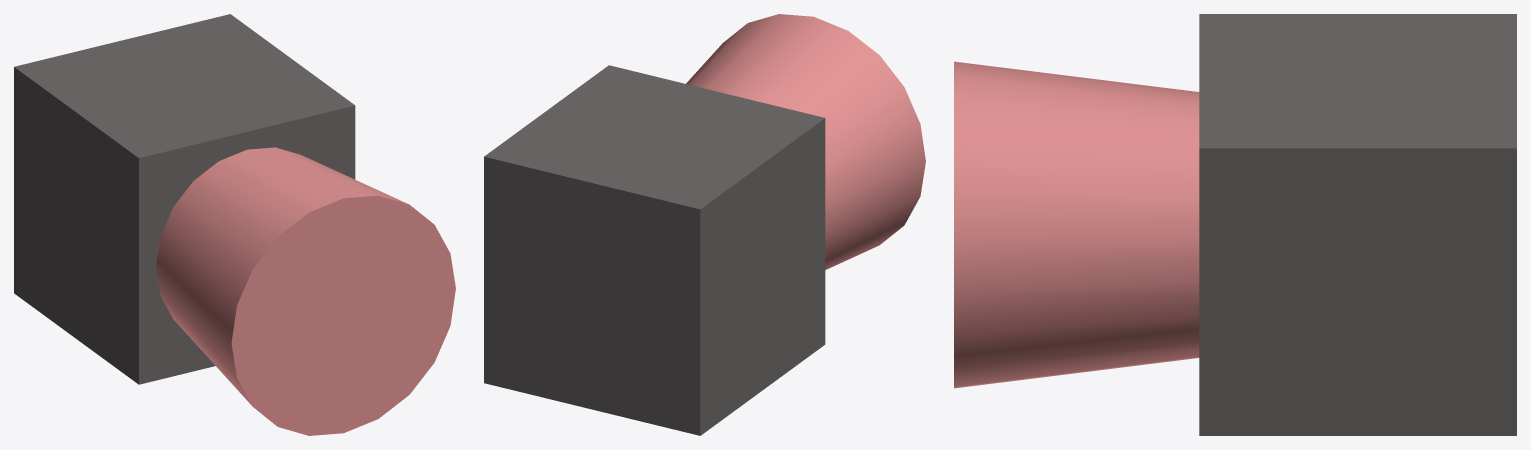
Rendered from TechTurret (1).fbx.
3 renders of one model, left to right at view 1: azimuth 30°, elevation 25°; view 2: azimuth 150°, elevation 25°; view 3: azimuth 270°, elevation 25°, orthographic. The views are drawn at different scales.
Parts seen in each view (by area): view 1: TechTurret__1_, Barrel; view 2: TechTurret__1_, Barrel; view 3: TechTurret__1_, Barrel.
Part boxes in pixels (x1,y1,x2,y2): TechTurret__1_: (14, 14, 355, 384); Barrel: (156, 147, 455, 435); TechTurret__1_: (484, 65, 825, 435); Barrel: (686, 14, 925, 269); TechTurret__1_: (1199, 14, 1516, 435); Barrel: (954, 61, 1199, 388).
Size of the model in its own units: 104 by 104 by 177.
